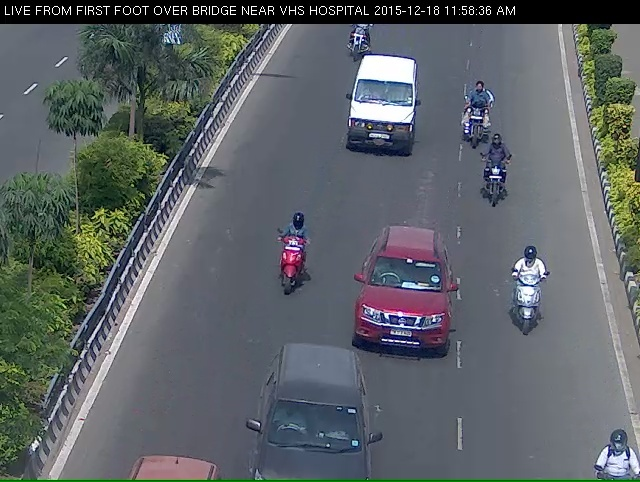Car: (361, 249, 447, 380), (250, 392, 374, 477), (349, 70, 413, 158)
Person: (506, 276, 554, 372), (478, 146, 515, 227), (266, 235, 298, 321), (461, 96, 487, 159), (338, 21, 359, 69)
